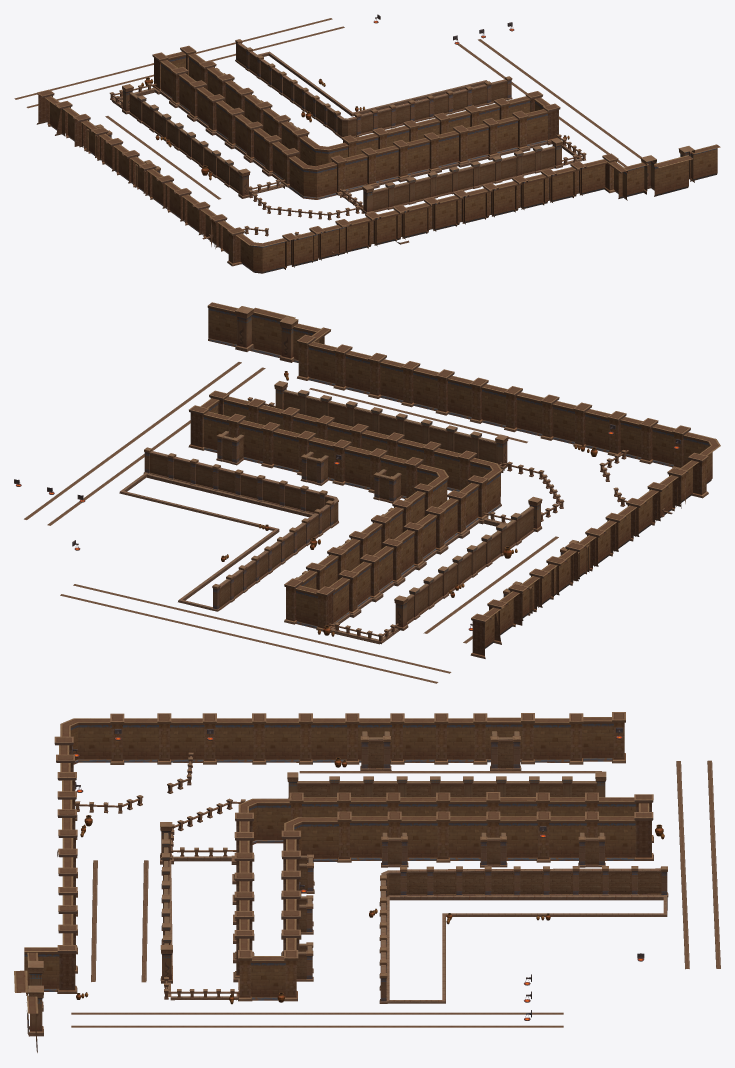
Rendered from qiangbi_group1.fbx.
The picture shows the model from 3 angles, top to bottom: view 1: azimuth 30°, elevation 25°; view 2: azimuth 150°, elevation 25°; view 3: azimuth 270°, elevation 25°; orthographic projection. The views are drawn at different scales.
Parts seen in each view (by area): view 1: qiangbi_group1; view 2: qiangbi_group1; view 3: qiangbi_group1.
Boxes of the visible parts, <box> form: qiangbi_group1: <box>14,14,720,273</box>; qiangbi_group1: <box>14,302,720,683</box>; qiangbi_group1: <box>14,712,720,1052</box>.
Bounding box in the file's own units: 11344 × 872 × 11350.
